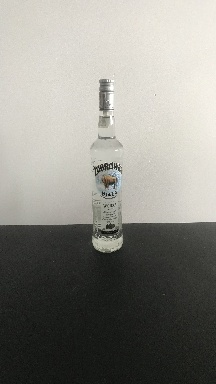butelka: (88, 76, 124, 255)
